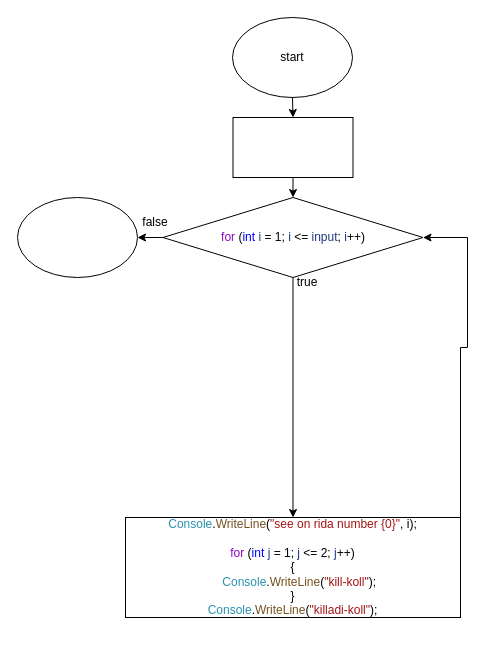
This 493x662 diagram has some shape labels left out. Here are the shapes that lost their labels. From the top down, the centre of each, then its label:
the point at 292,147: int input = 4;
the point at 77,237: stop
